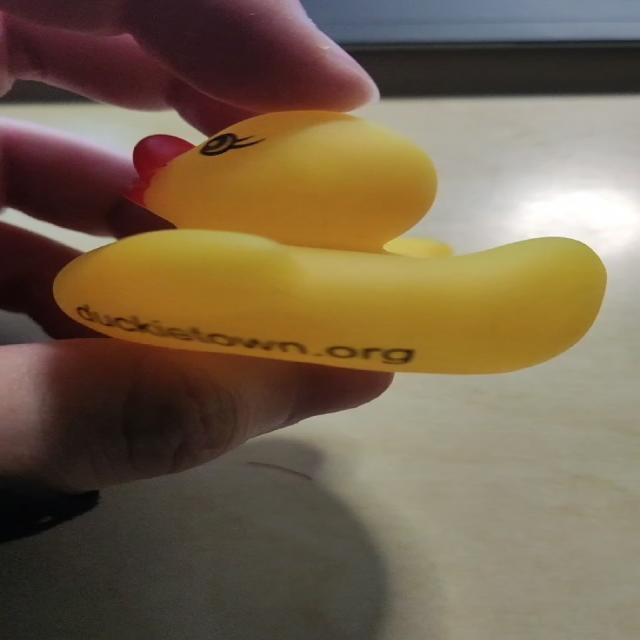rubber-duck: (53, 110, 605, 371)
